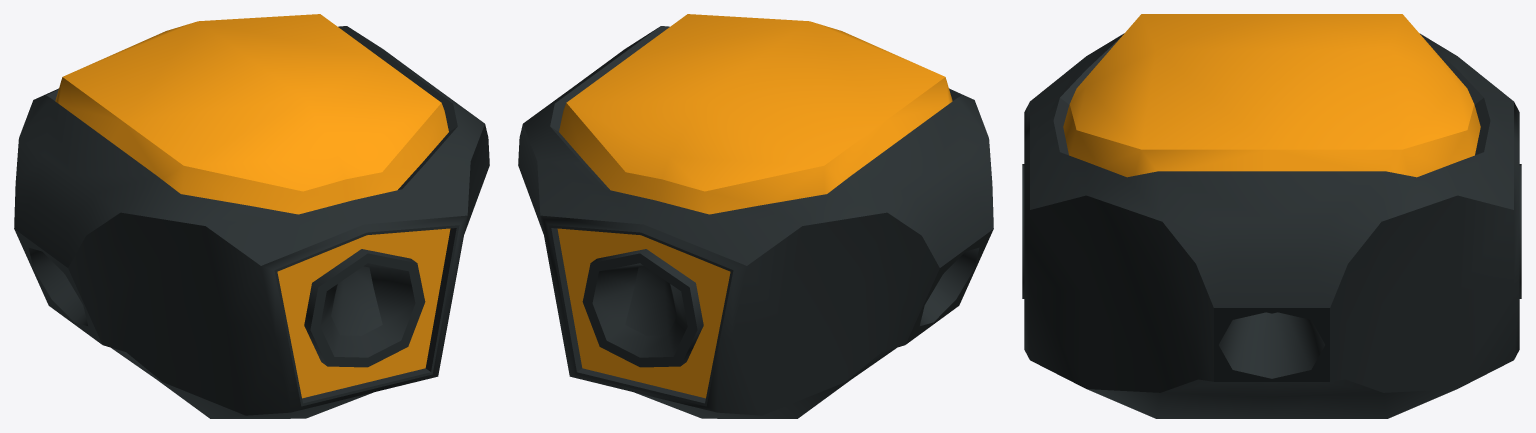
File: Straw_Dog_4_body.obj
3 renders of one model, left to right at view 1: azimuth 30°, elevation 25°; view 2: azimuth 150°, elevation 25°; view 3: azimuth 270°, elevation 25°, orthographic. The views are drawn at different scales.
Parts seen in each view (by area): view 1: body_Cube.003; view 2: body_Cube.003; view 3: body_Cube.003.
Boxes of the visible parts, <box> form: body_Cube.003: <box>14,14,489,418</box>; body_Cube.003: <box>518,14,993,418</box>; body_Cube.003: <box>1022,14,1521,418</box>.
Bounding box in the file's own units: 3.99 × 2.88 × 3.79.
